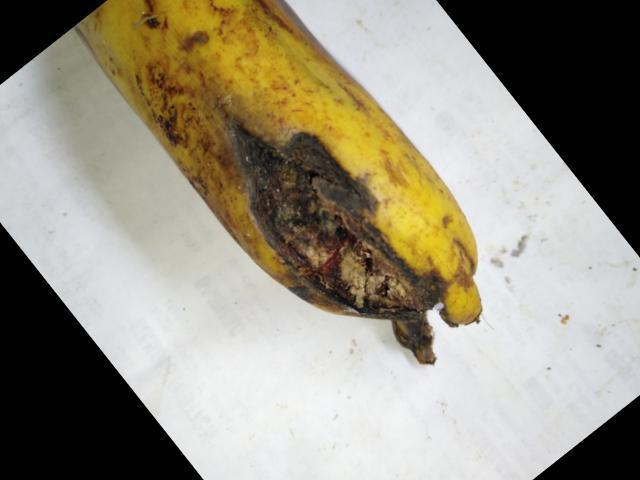ripe: (75, 0, 496, 354)
rotten: (212, 112, 479, 370)
